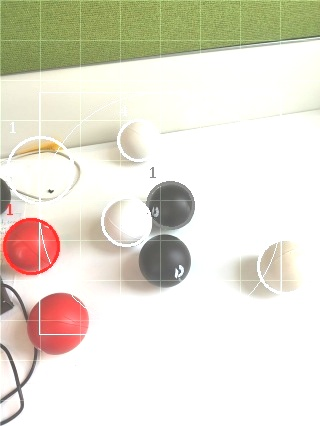Pelota blanca: (2, 134, 81, 206), (255, 238, 315, 294), (100, 193, 153, 248), (113, 118, 161, 163)
Pelota negra: (137, 233, 193, 288), (145, 180, 195, 230)
Pelota roja: (26, 292, 89, 355), (0, 217, 62, 275)
